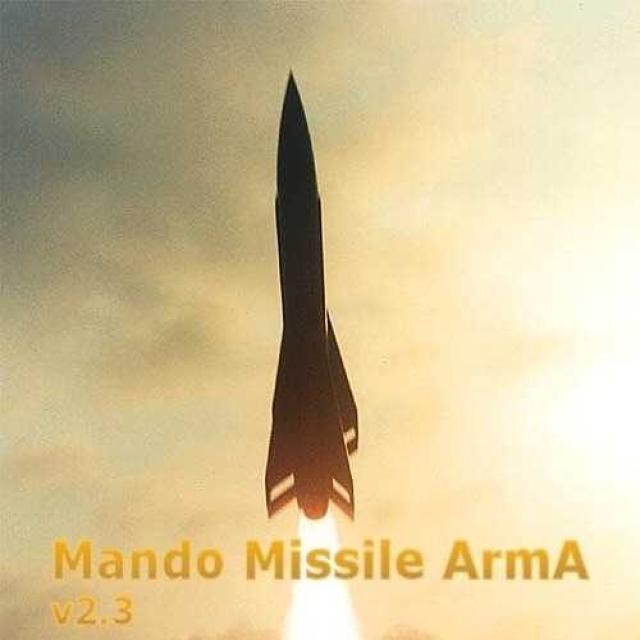missile: (267, 65, 371, 521)
